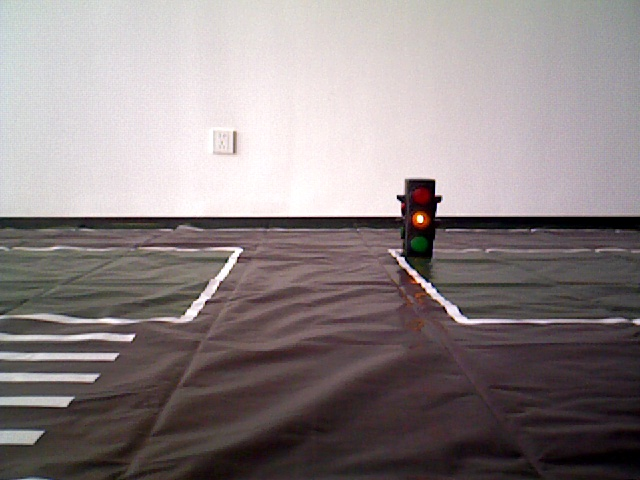yellow: (398, 179, 442, 264)
